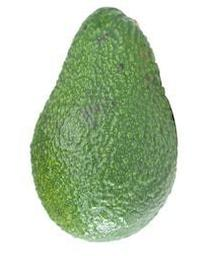avocado: (30, 7, 180, 242)
